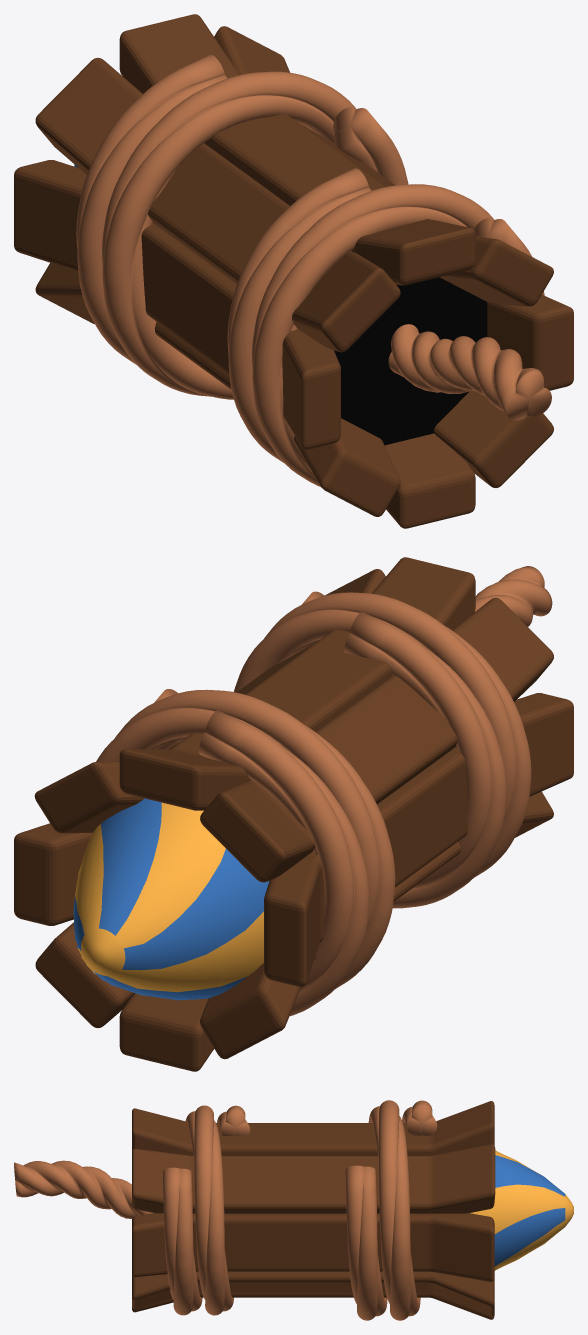
File: FirecrackerRocketLuncher.fbx
The picture shows the model from 3 angles, top to bottom: view 1: azimuth 30°, elevation 25°; view 2: azimuth 150°, elevation 25°; view 3: azimuth 270°, elevation 25°; orthographic projection. The views are drawn at different scales.
Visible parts, largest first — view 1: Connected Rocket Luncher; view 2: Connected Rocket Luncher; view 3: Connected Rocket Luncher.
Part boxes in pixels (x1,y1,x2,y2): Connected Rocket Luncher: [14, 14, 573, 528]; Connected Rocket Luncher: [14, 557, 573, 1071]; Connected Rocket Luncher: [14, 1100, 573, 1320].
Size of the model in its own units: 114 by 114 by 289.
